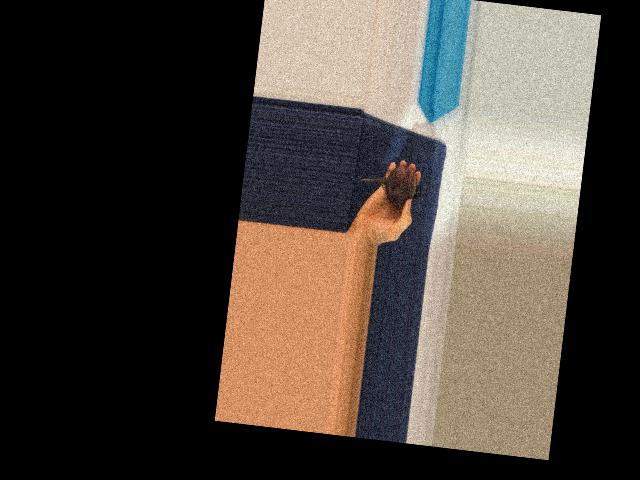beet: (355, 160, 423, 208)
